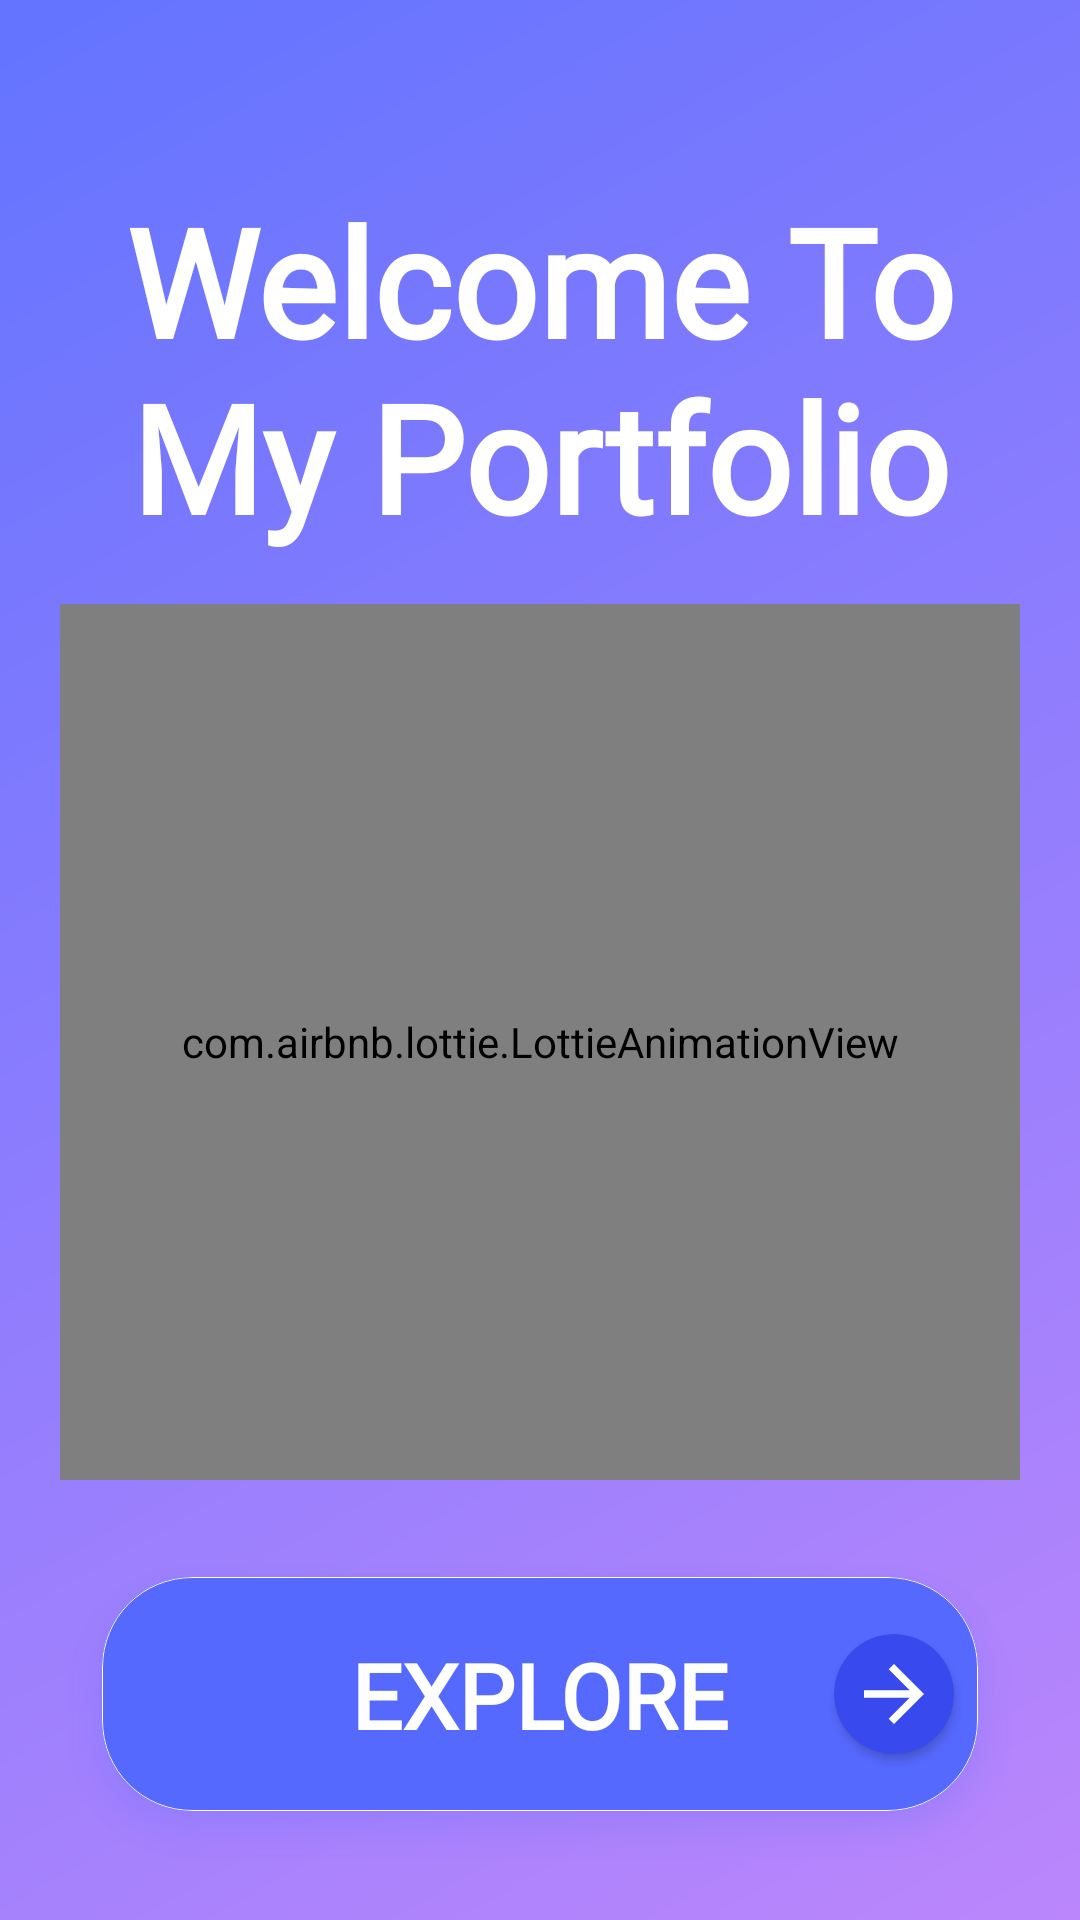

Icon click points for this 1080x1920 phone screenshot, format [x,y]:
arrow forward: [894,1694]
